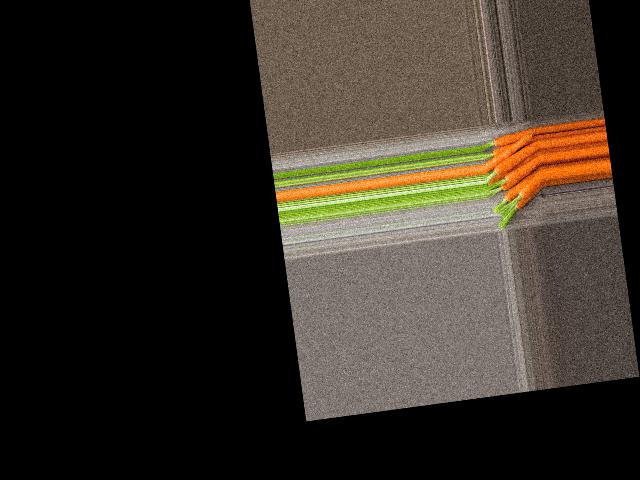carrot: (493, 173, 544, 203)
